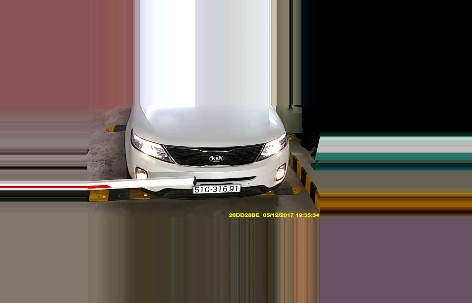plate: (194, 181, 242, 195)
